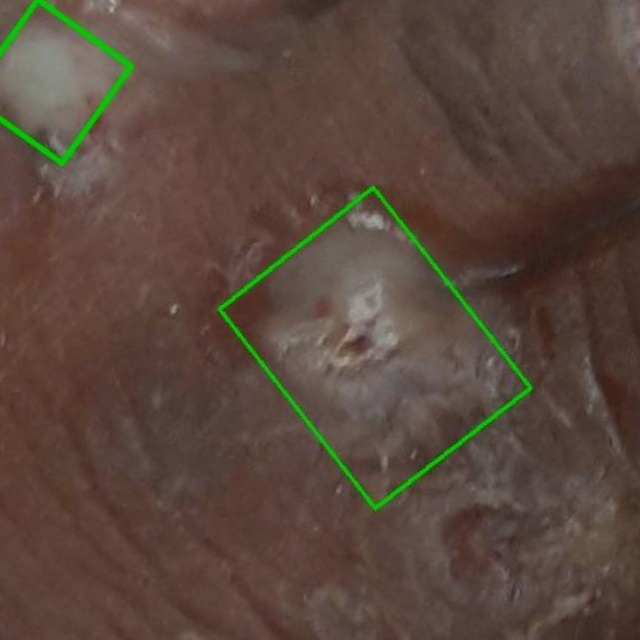Eczema: (218, 188, 529, 509), (0, 0, 131, 163)
